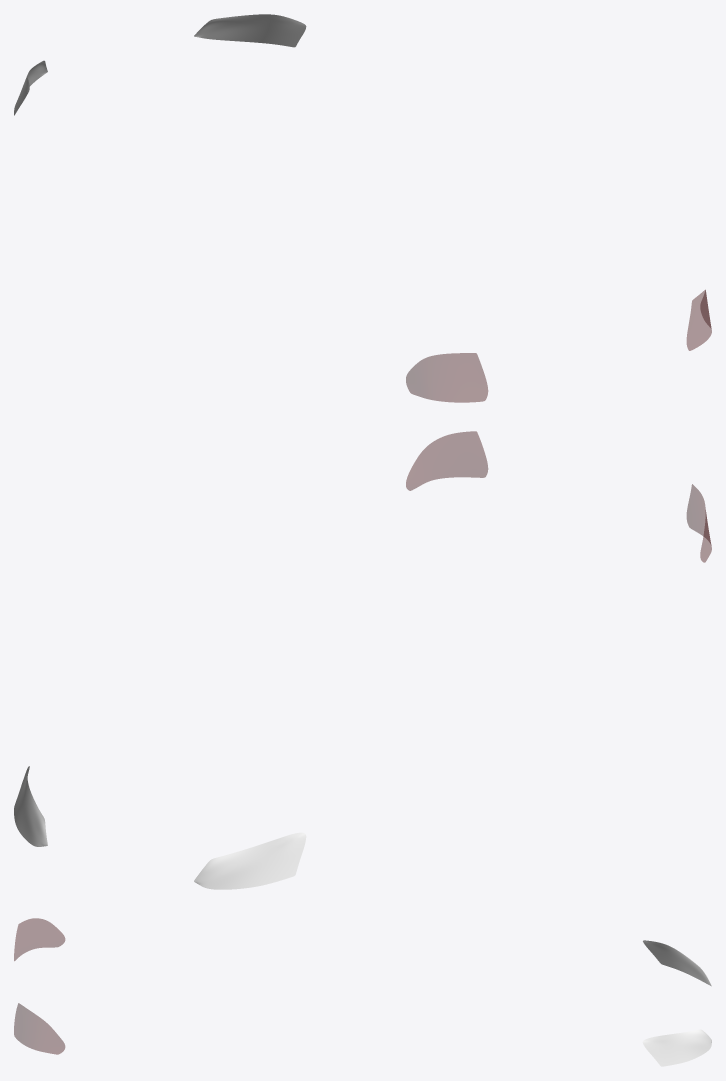
File: Lights.fbx
The picture shows the model from 3 angles, top to bottom: view 1: azimuth 30°, elevation 25°; view 2: azimuth 150°, elevation 25°; view 3: azimuth 270°, elevation 25°; orthographic projection. The views are drawn at different scales.
Visible parts, largest first — view 1: ЗАДНЯЯ ФАРА.001, ФАРА ПЕРЕД СТЕКЛО.001, ЗАДНЯЯ ФАРА; view 2: ФАРА ПЕРЕД СТЕКЛО.002, ЗАДНЯЯ ФАРА, ФАРА ПЕРЕД СТЕКЛО.001, ЗАДНЯЯ ФАРА.001; view 3: ФАРА ПЕРЕД СТЕКЛО.001, ЗАДНЯЯ ФАРА, ЗАДНЯЯ ФАРА.001, ФАРА ПЕРЕД СТЕКЛО.002.
Part boxes in pixels (x1=…): ЗАДНЯЯ ФАРА.001: x1=406, y1=353, x2=487, y2=402; ФАРА ПЕРЕД СТЕКЛО.001: x1=194, y1=14, x2=306, y2=47; ЗАДНЯЯ ФАРА: x1=687, y1=290, x2=711, y2=350; ФАРА ПЕРЕД СТЕКЛО.002: x1=194, y1=832, x2=306, y2=889; ЗАДНЯЯ ФАРА: x1=406, y1=431, x2=487, y2=490; ФАРА ПЕРЕД СТЕКЛО.001: x1=14, y1=766, x2=47, y2=846; ЗАДНЯЯ ФАРА.001: x1=687, y1=484, x2=711, y2=562; ФАРА ПЕРЕД СТЕКЛО.001: x1=642, y1=1029, x2=711, y2=1066; ЗАДНЯЯ ФАРА: x1=14, y1=1003, x2=64, y2=1054; ЗАДНЯЯ ФАРА.001: x1=14, y1=918, x2=64, y2=960; ФАРА ПЕРЕД СТЕКЛО.002: x1=643, y1=940, x2=711, y2=986.
Size of the model in its own units: 221 by 52.47 by 607.
